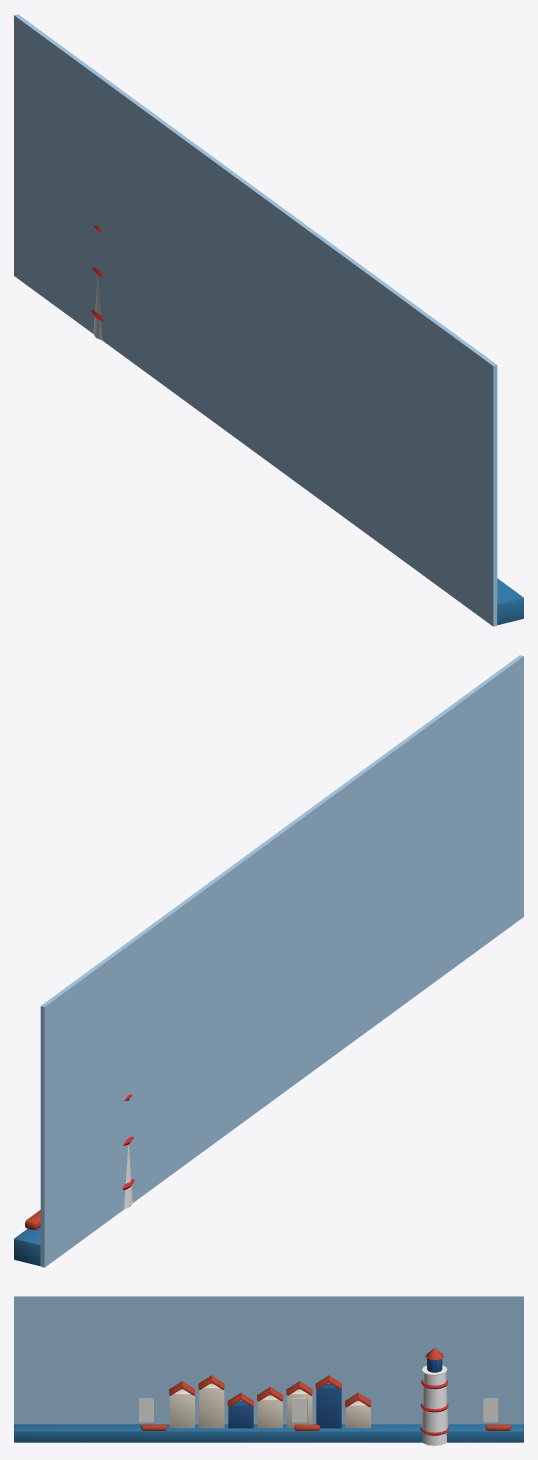
The model's file is BackdropHarbour.fbx.
3 views of the same model, one above another, from view 1: azimuth 30°, elevation 25°; view 2: azimuth 150°, elevation 25°; view 3: azimuth 270°, elevation 25° (orthographic). The views are drawn at different scales.
Parts seen in each view (by area): view 1: BackdropHarbour; view 2: BackdropHarbour; view 3: BackdropHarbour.
Part boxes in pixels (x1,y1,x2,y2): BackdropHarbour: (14, 14, 523, 626); BackdropHarbour: (14, 655, 523, 1267); BackdropHarbour: (14, 1296, 523, 1445).
Bounding box in the file's own units: 454 × 2400 × 8000.
